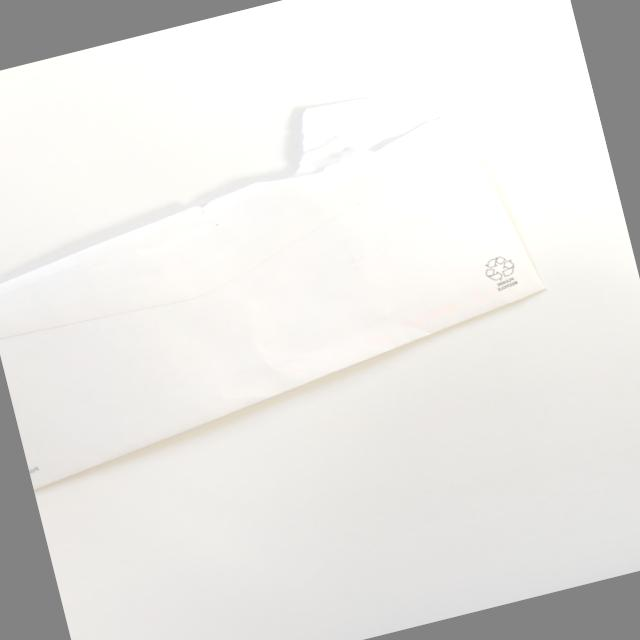Paper: (0, 49, 579, 494)
